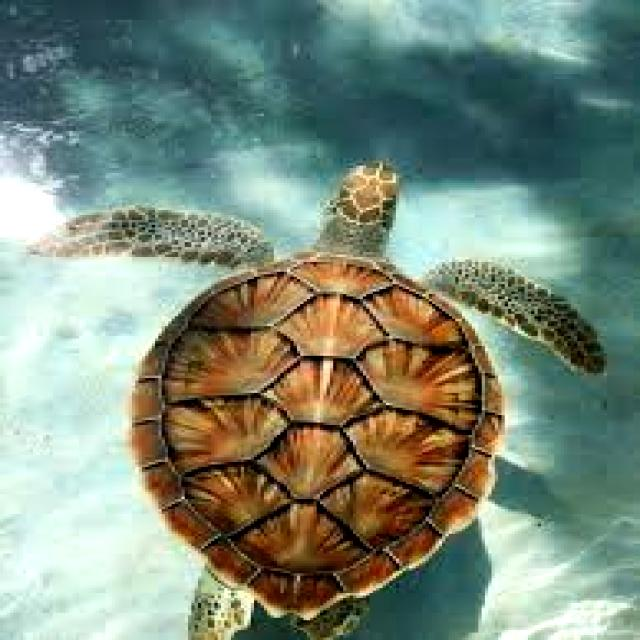Sea turtle: (19, 153, 612, 640)
